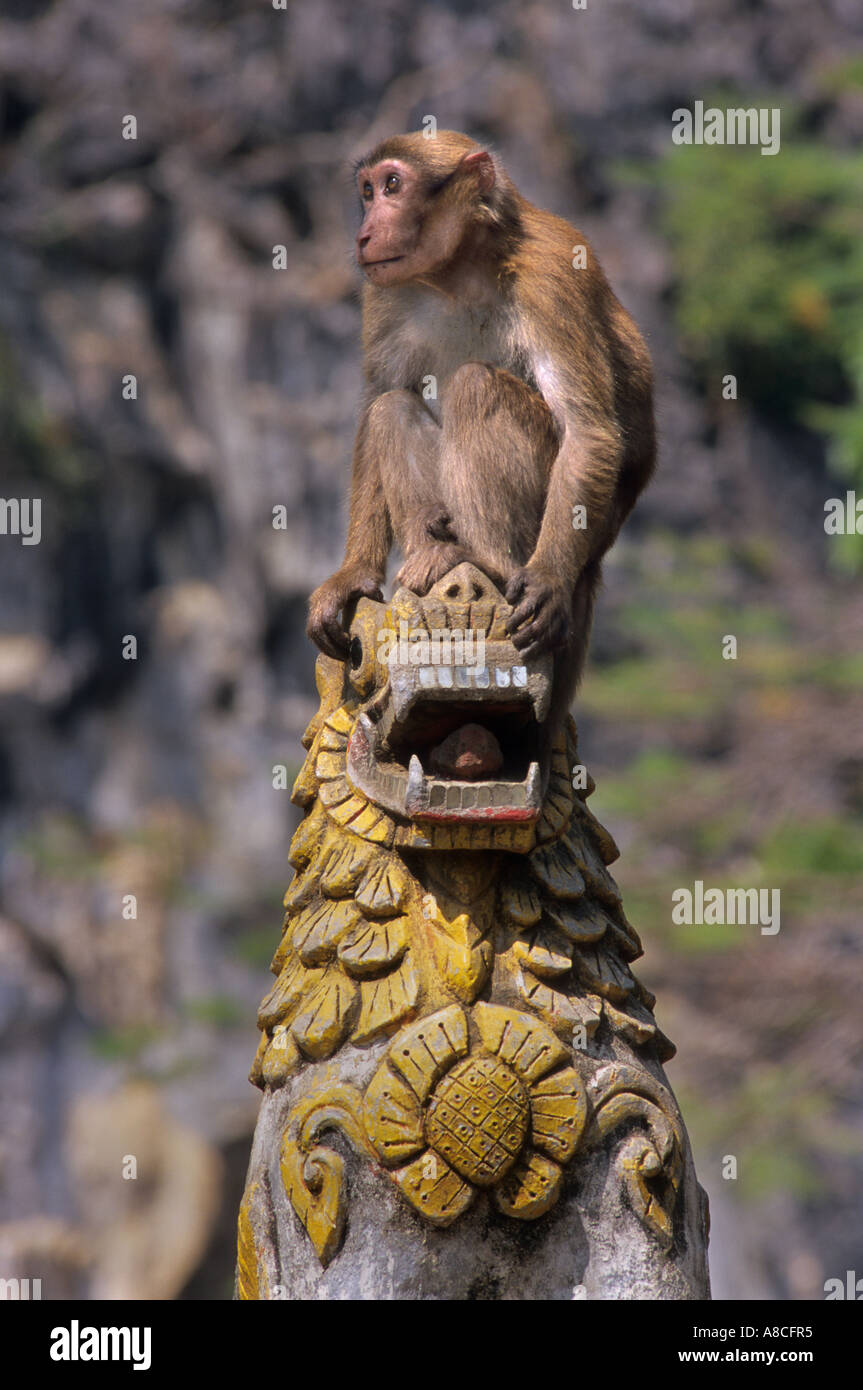monkey: (282, 98, 704, 699)
